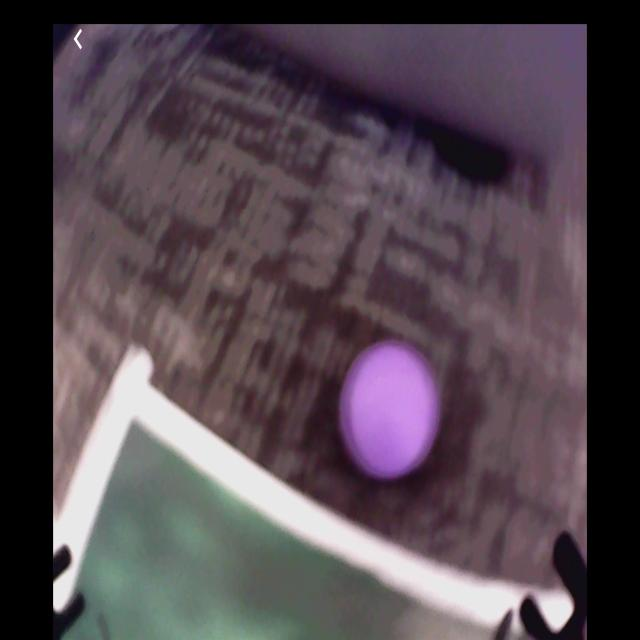ball: (341, 343, 441, 479)
